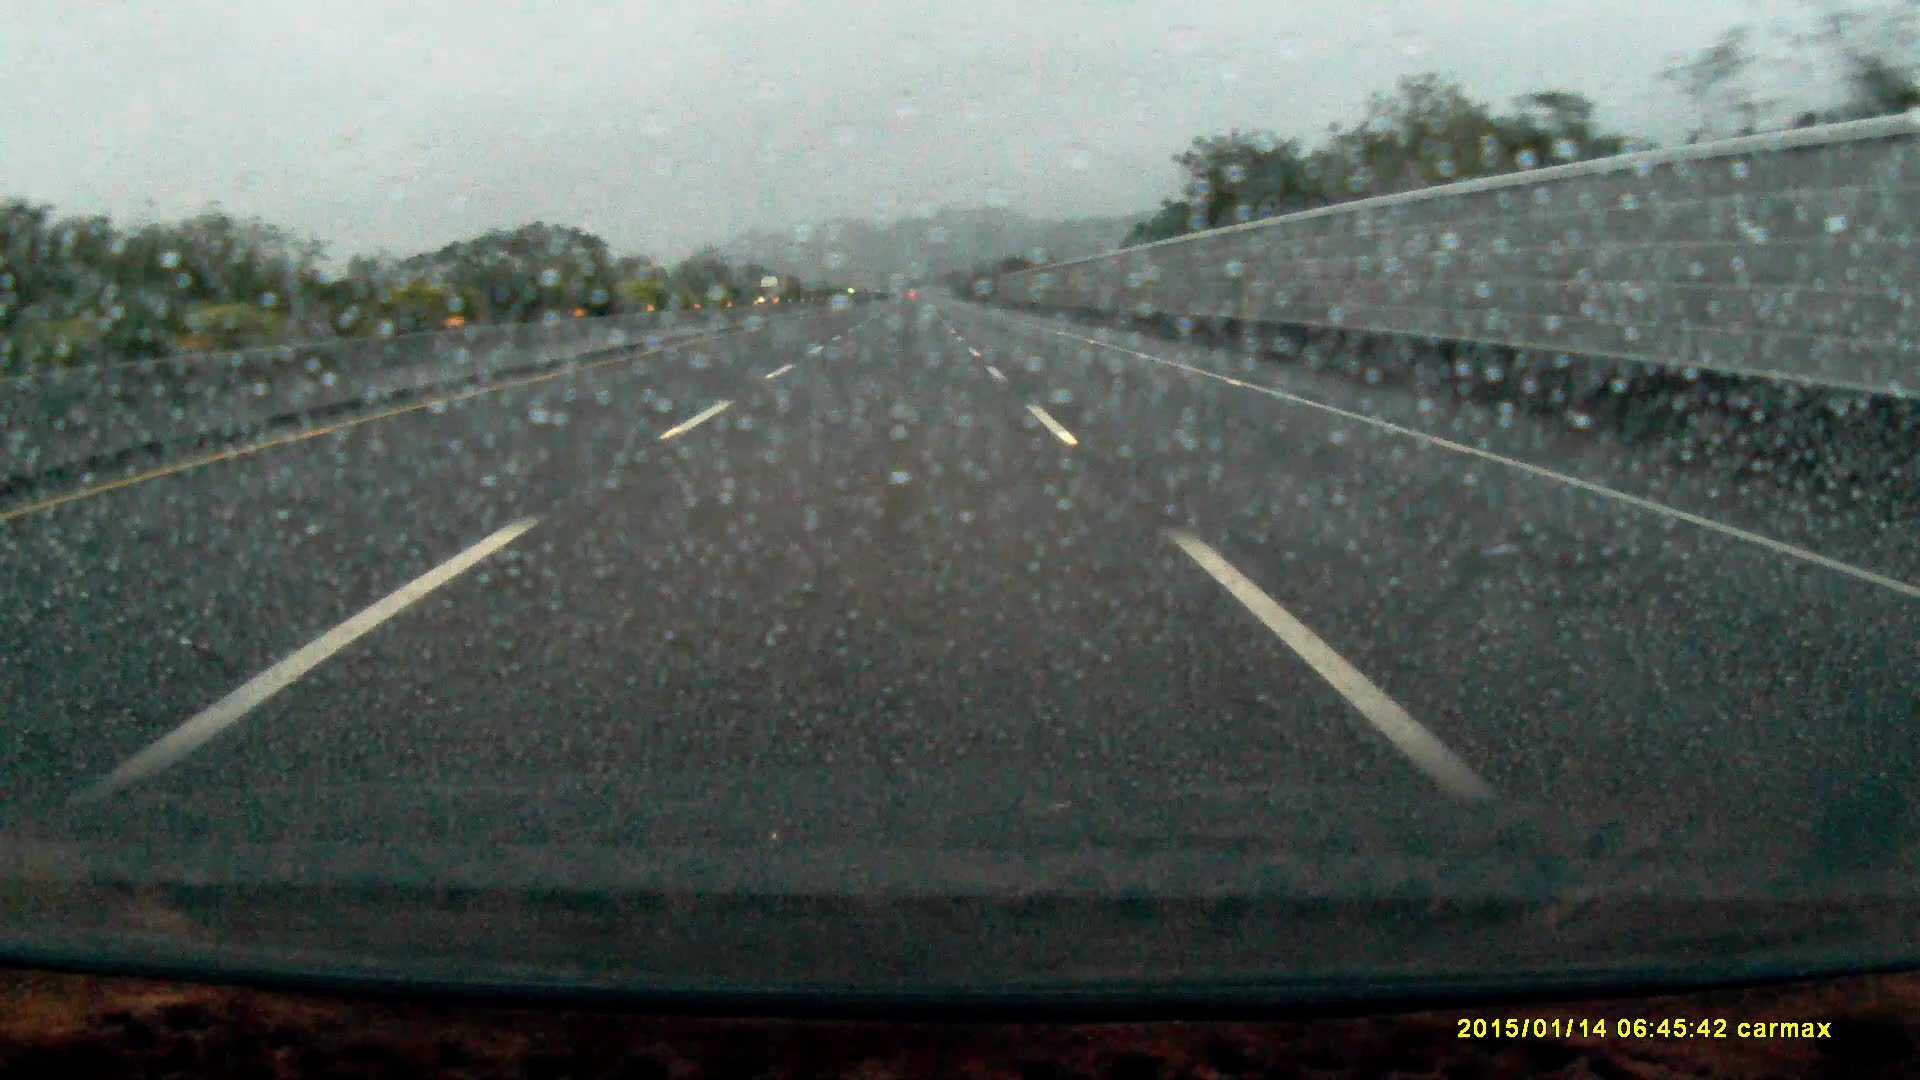vehicle: (760, 278, 787, 307)
